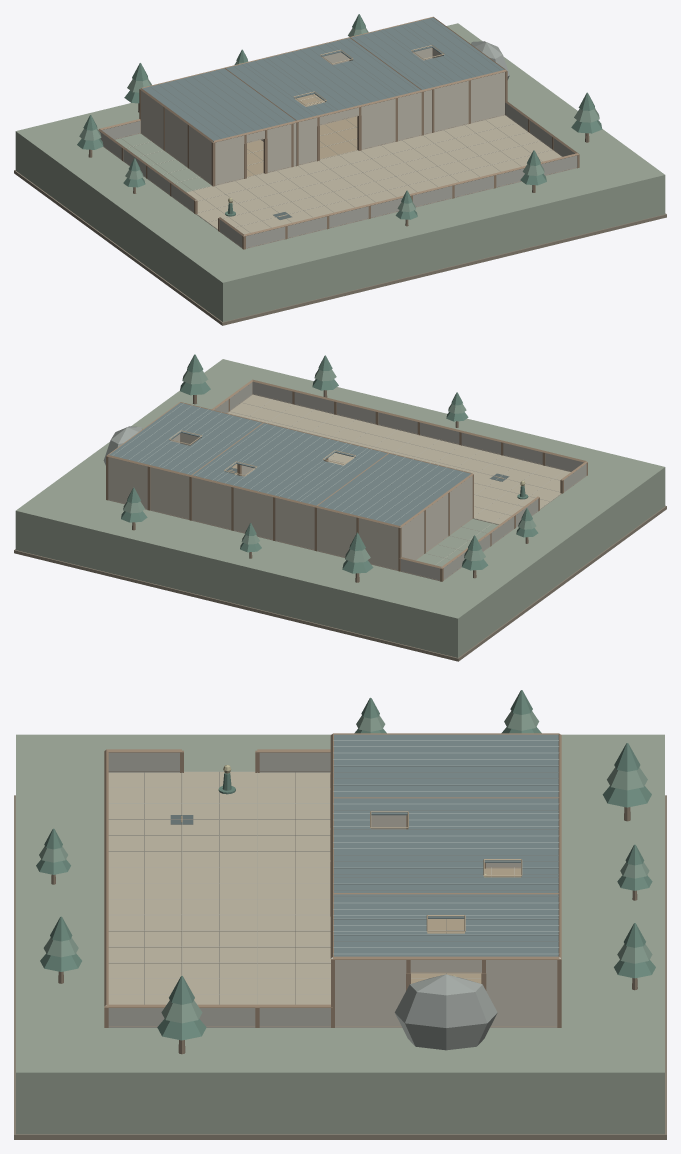
The model's file is root-house.glb.
3 renders of one model, top to bottom at view 1: azimuth 30°, elevation 25°; view 2: azimuth 150°, elevation 25°; view 3: azimuth 270°, elevation 25°, orthographic. The views are drawn at different scales.
Visible parts, largest first — view 1: ground, walls, roofs, vegetation, grid, details; view 2: ground, walls, roofs, vegetation, grid, details; view 3: ground, roofs, walls, vegetation, details, grid.
Part boxes in pixels (left/top/right/bottom): ground: left=14, top=23, right=666, bottom=325; walls: left=98, top=16, right=579, bottom=249; roofs: left=142, top=17, right=504, bottom=143; vegetation: left=77, top=14, right=602, bottom=226; grid: left=121, top=95, right=552, bottom=232; details: left=273, top=41, right=509, bottom=219; ground: left=14, top=359, right=666, bottom=661; walls: left=106, top=379, right=587, bottom=581; roofs: left=109, top=402, right=470, bottom=526; vegetation: left=121, top=354, right=538, bottom=582; grid: left=228, top=399, right=564, bottom=564; details: left=103, top=426, right=509, bottom=481; ground: left=14, top=734, right=666, bottom=1139; roofs: left=330, top=734, right=558, bottom=973; walls: left=104, top=733, right=561, bottom=1027; vegetation: left=36, top=690, right=655, bottom=1054; details: left=170, top=815, right=514, bottom=1050; grid: left=108, top=771, right=521, bottom=1004.
Size of the model in its own units: 32.46 by 6.41 by 26.37.
